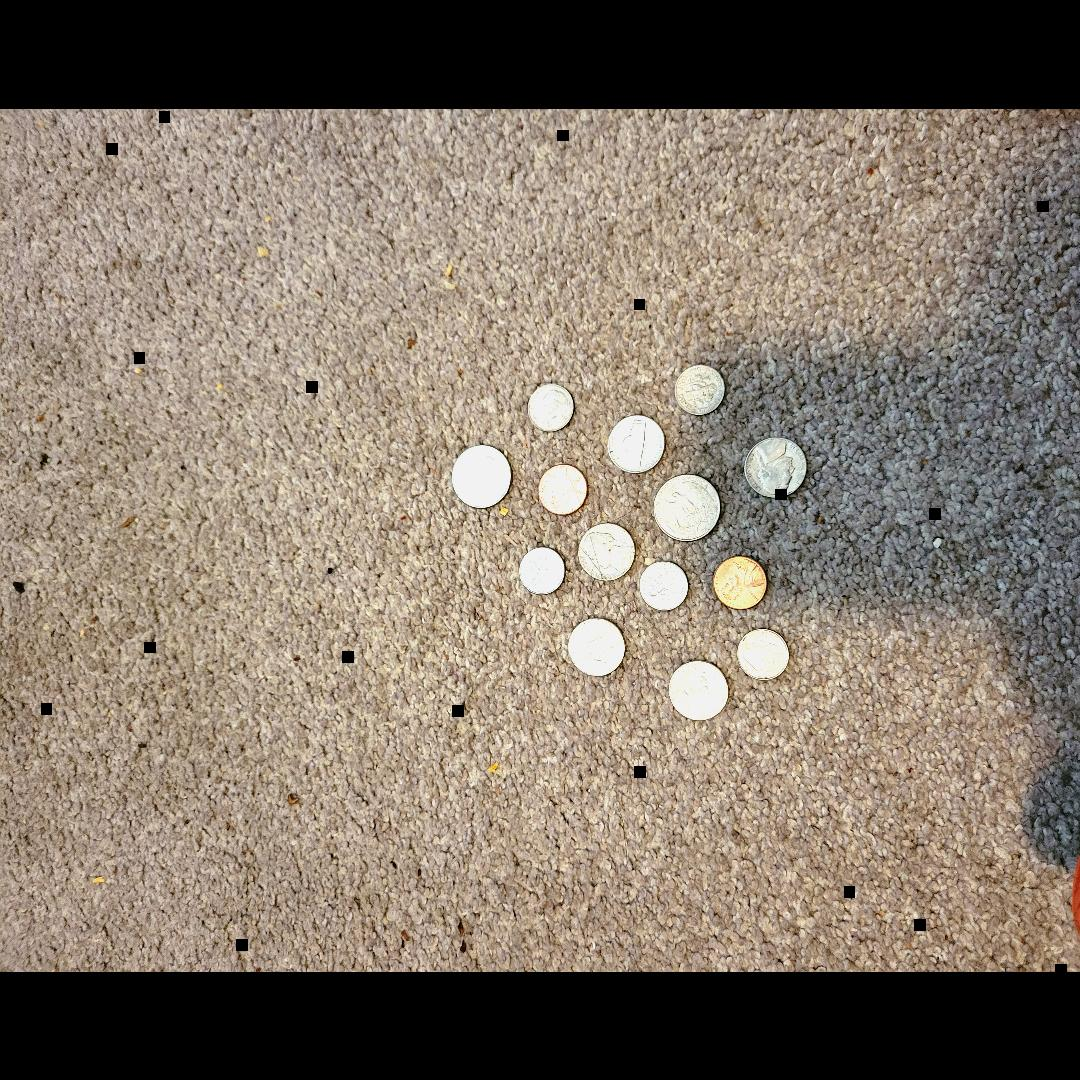Dime: (675, 364, 725, 415), (738, 629, 787, 681), (639, 561, 687, 611), (528, 385, 575, 432), (520, 547, 564, 595)
Nickel: (747, 437, 806, 498), (669, 661, 727, 720), (568, 618, 625, 677), (608, 415, 665, 474), (579, 523, 633, 581)
Penny: (714, 556, 765, 609), (538, 464, 588, 515)
Quarter: (654, 474, 721, 541), (452, 445, 511, 508)
